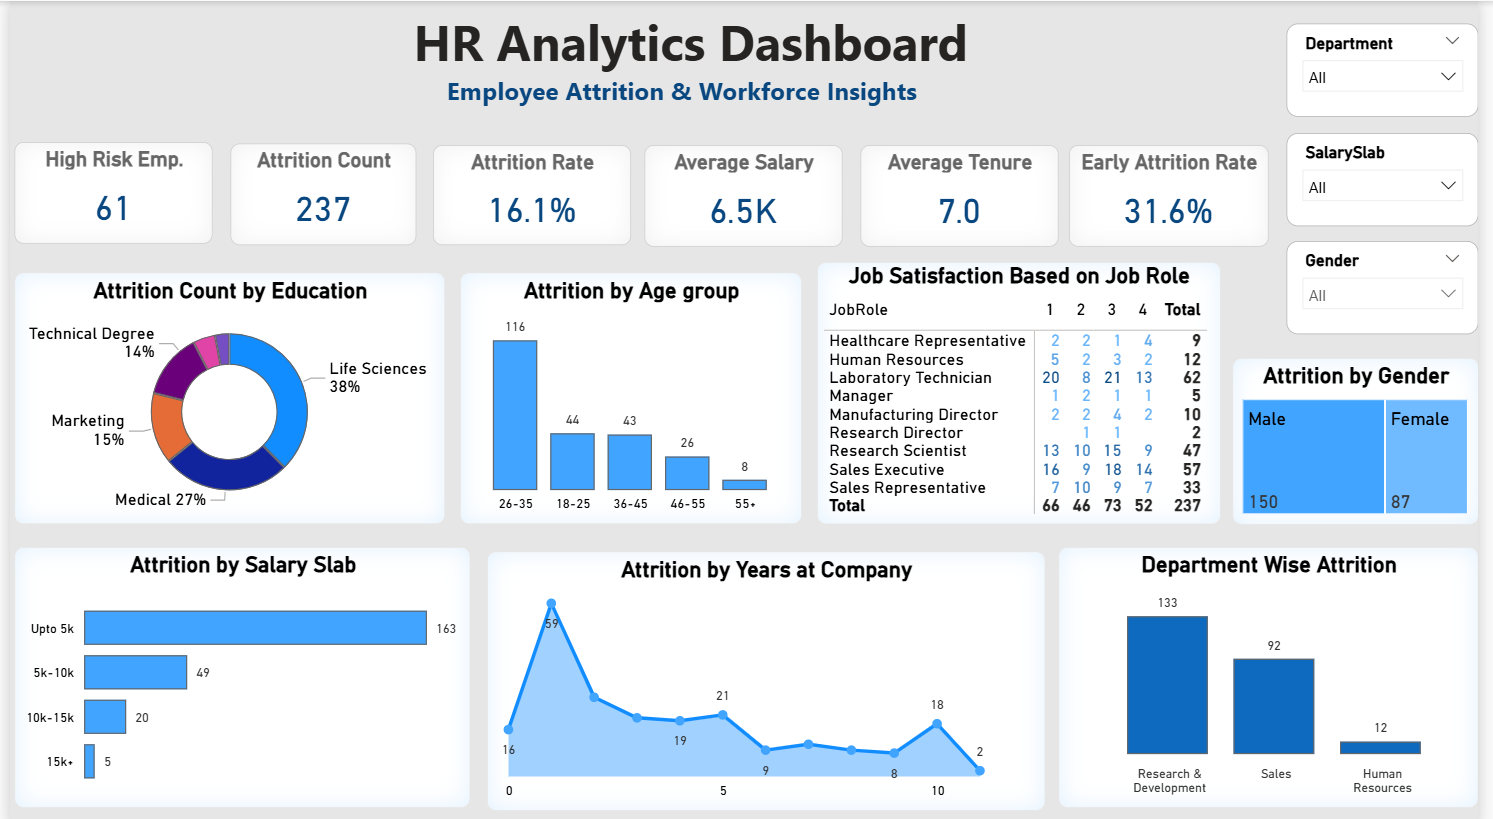

Layout of this report page (visuals, bound fields, positions):
{"tool":"powerbi","page":{"name":"Page 1","canvas":[1280,720],"ordinal":0},"visuals":[{"type":"card","title":" High Risk Emp.","fields":{"Values":["HR_Analytics.High Risk Employees"]},"box":[3.9,122.9,172.6,88.9],"z":0},{"type":"card","title":"Attrition Count","fields":{"Values":["HR_Analytics.Attrition Count"]},"box":[192.2,124.2,162.1,88.9],"z":1000},{"type":"card","title":"Attrition Rate","fields":{"Values":["HR_Analytics.Attrition Rate"]},"box":[368.7,125.5,172.6,87.6],"z":2000},{"type":"card","title":"Average Salary","fields":{"Values":["HR_Analytics.Average Salary"]},"box":[553.1,125.5,172.6,88.9],"z":3000},{"type":"card","title":"Average Tenure","fields":{"Values":["HR_Analytics.Average Tenure"]},"box":[741.4,125.5,172.6,88.9],"z":4000},{"type":"card","title":"Early Attrition Rate","fields":{"Values":["HR_Analytics.Early Attrition Rate"]},"box":[923.1,125.5,173.9,88.9],"z":5000},{"type":"donutChart","title":"Attrition Count by Education","fields":{"Category":["HR_Analytics.EducationField"],"Y":["HR_Analytics.Attrition Count"]},"box":[3.9,236.7,375.3,219.7],"z":6000},{"type":"clusteredColumnChart","title":" Attrition by Age group","fields":{"Category":["HR_Analytics.AgeGroup"],"Y":["HR_Analytics.Attrition Count"]},"box":[392.3,236.7,298.1,219.7],"z":7000},{"type":"pivotTable","title":"Job Satisfaction Based on Job Role","fields":{"Rows":["HR_Analytics.JobRole"],"Columns":["HR_Analytics.JobSatisfaction"],"Values":["HR_Analytics.Attrition Count"]},"box":[703.5,227.5,351.7,228.8],"z":8000},{"type":"barChart","title":" Attrition by Salary Slab","fields":{"Category":["HR_Analytics.SalarySlab"],"Y":["HR_Analytics.Attrition Count"]},"box":[3.9,475.9,397.5,227.5],"z":9000},{"type":"clusteredColumnChart","title":"Department Wise Attrition","fields":{"Category":["HR_Analytics.Department"],"Y":["HR_Analytics.Attrition Count"]},"box":[914,475.9,366.1,227.5],"z":10000},{"type":"areaChart","title":" Attrition by Years at Company","fields":{"Category":["HR_Analytics.YearsAtCompany"],"Y":["HR_Analytics.Attrition Count"]},"box":[415.8,479.9,486.4,226.2],"z":11000},{"type":"treemap","title":" Attrition by Gender","fields":{"Group":["HR_Analytics.Gender"],"Values":["HR_Analytics.Attrition Count"]},"box":[1065.6,311.2,214.4,145.1],"z":12000},{"type":"textbox","box":[0,1.3,1018.6,99.4],"z":13000},{"type":"slicer","fields":{"Values":["HR_Analytics.Department"]},"box":[1112.7,19.6,167.4,81.1],"z":14000},{"type":"slicer","fields":{"Values":["HR_Analytics.SalarySlab"]},"box":[1112.7,115.1,167.4,81.1],"z":15000},{"type":"slicer","fields":{"Values":["HR_Analytics.Gender"]},"box":[1112.7,209.2,167.4,81.1],"z":16000}]}

Visuals, with their boxes in screenshot pixels (x1, y1, x2, y2), scaled from the page's 1280x720 canvas onto the 1493x819 screenshot:
" High Risk Emp." card: {"left": 5, "top": 140, "right": 206, "bottom": 241}
"Attrition Count" card: {"left": 224, "top": 141, "right": 413, "bottom": 242}
"Attrition Rate" card: {"left": 430, "top": 143, "right": 631, "bottom": 242}
"Average Salary" card: {"left": 645, "top": 143, "right": 846, "bottom": 244}
"Average Tenure" card: {"left": 865, "top": 143, "right": 1066, "bottom": 244}
"Early Attrition Rate" card: {"left": 1077, "top": 143, "right": 1280, "bottom": 244}
"Attrition Count by Education" donutChart: {"left": 5, "top": 269, "right": 442, "bottom": 519}
" Attrition by Age group" clusteredColumnChart: {"left": 458, "top": 269, "right": 805, "bottom": 519}
"Job Satisfaction Based on Job Role" pivotTable: {"left": 821, "top": 259, "right": 1231, "bottom": 519}
" Attrition by Salary Slab" barChart: {"left": 5, "top": 541, "right": 468, "bottom": 800}
"Department Wise Attrition" clusteredColumnChart: {"left": 1066, "top": 541, "right": 1492, "bottom": 800}
" Attrition by Years at Company" areaChart: {"left": 485, "top": 546, "right": 1052, "bottom": 803}
" Attrition by Gender" treemap: {"left": 1243, "top": 354, "right": 1492, "bottom": 519}
textbox: {"left": 0, "top": 1, "right": 1188, "bottom": 115}
slicer - HR_Analytics.Department: {"left": 1298, "top": 22, "right": 1492, "bottom": 115}
slicer - HR_Analytics.SalarySlab: {"left": 1298, "top": 131, "right": 1492, "bottom": 223}
slicer - HR_Analytics.Gender: {"left": 1298, "top": 238, "right": 1492, "bottom": 330}
